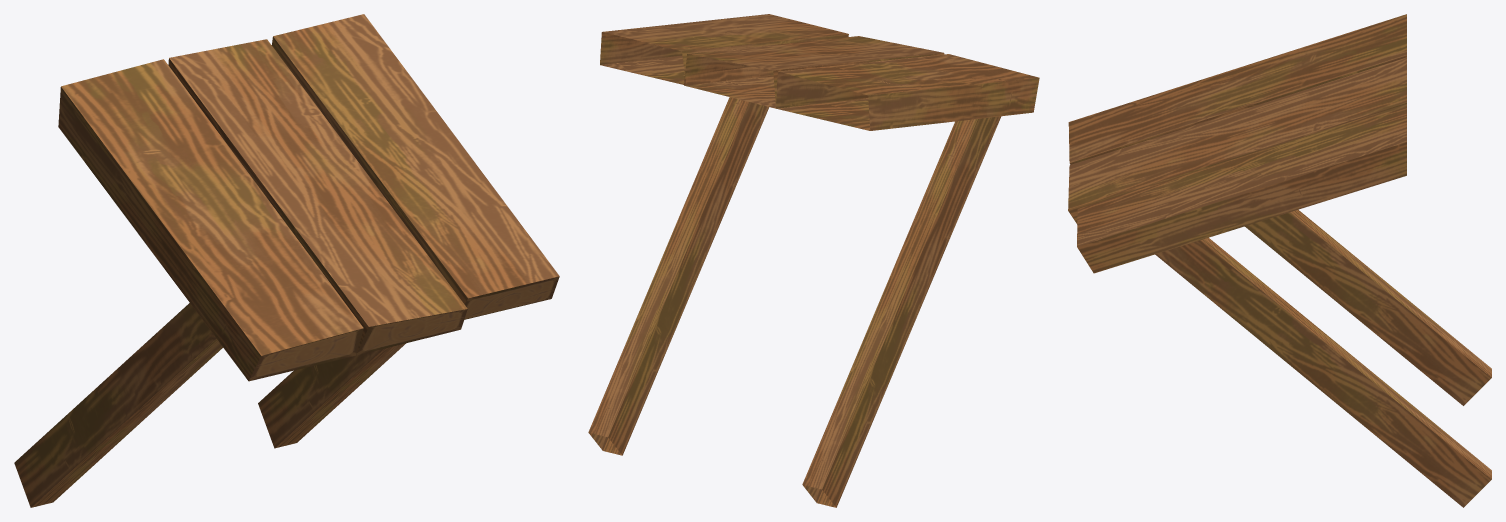
Rendered from Window_Roof_Thin.gltf.
3 renders of one model, left to right at view 1: azimuth 30°, elevation 25°; view 2: azimuth 150°, elevation 25°; view 3: azimuth 270°, elevation 25°, orthographic. The views are drawn at different scales.
Parts seen in each view (by area): view 1: Window_Roof_Thin; view 2: Window_Roof_Thin; view 3: Window_Roof_Thin.
Part boxes in pixels (bbox=[...]): Window_Roof_Thin: bbox=[14, 14, 559, 507]; Window_Roof_Thin: bbox=[588, 14, 1039, 507]; Window_Roof_Thin: bbox=[1068, 14, 1491, 507].
Size of the model in its own units: 0.8518 by 1.18 by 1.18.
Materials: 2 (2 with a texture image).
